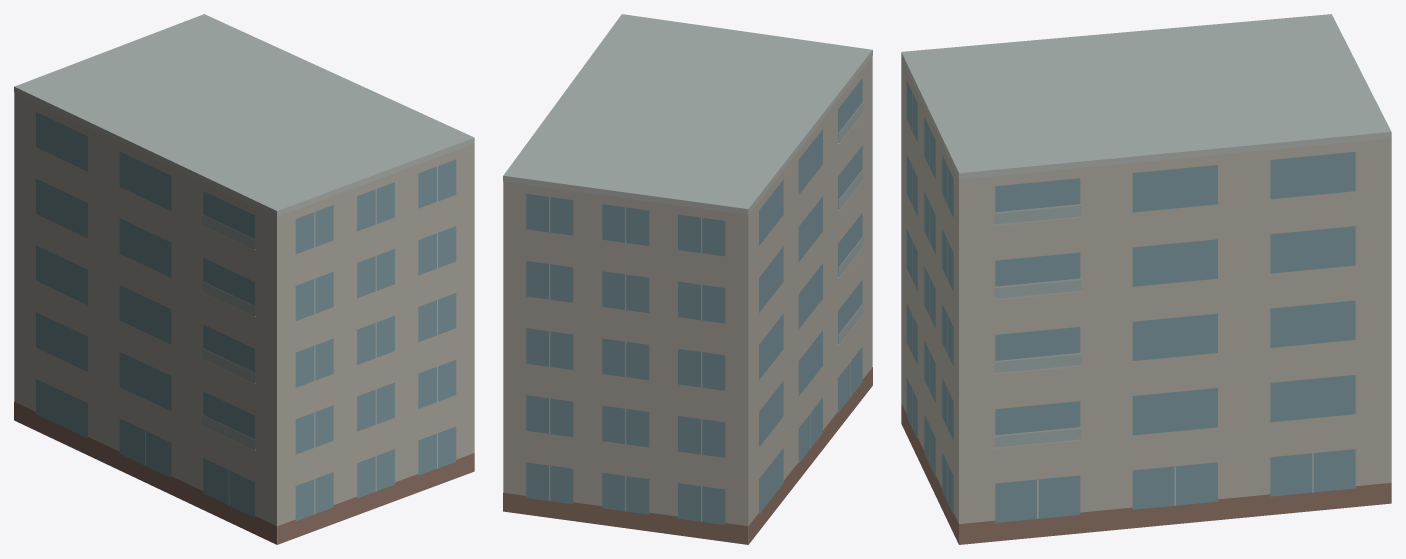
The model's file is survey-upis-32717841.glb.
3 views of the same model, side by side, from view 1: azimuth 30°, elevation 25°; view 2: azimuth 150°, elevation 25°; view 3: azimuth 270°, elevation 25° (orthographic). The views are drawn at different scales.
Parts seen in each view (by area): view 1: survey-upis-32717841.tmp; view 2: survey-upis-32717841.tmp; view 3: survey-upis-32717841.tmp.
Boxes of the visible parts, <box> form: survey-upis-32717841.tmp: <box>14,14,474,544</box>; survey-upis-32717841.tmp: <box>503,14,872,544</box>; survey-upis-32717841.tmp: <box>901,14,1391,544</box>.
Size of the model in its own units: 13.06 by 14.2 by 16.99.
